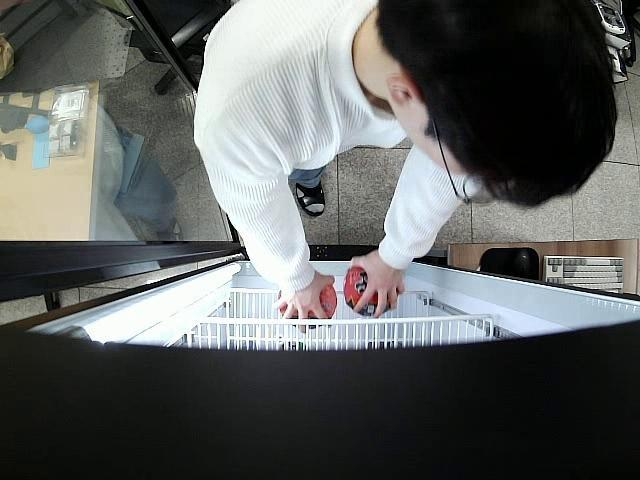01_ShinRamen_L: (278, 286, 336, 328), (344, 266, 392, 316)
